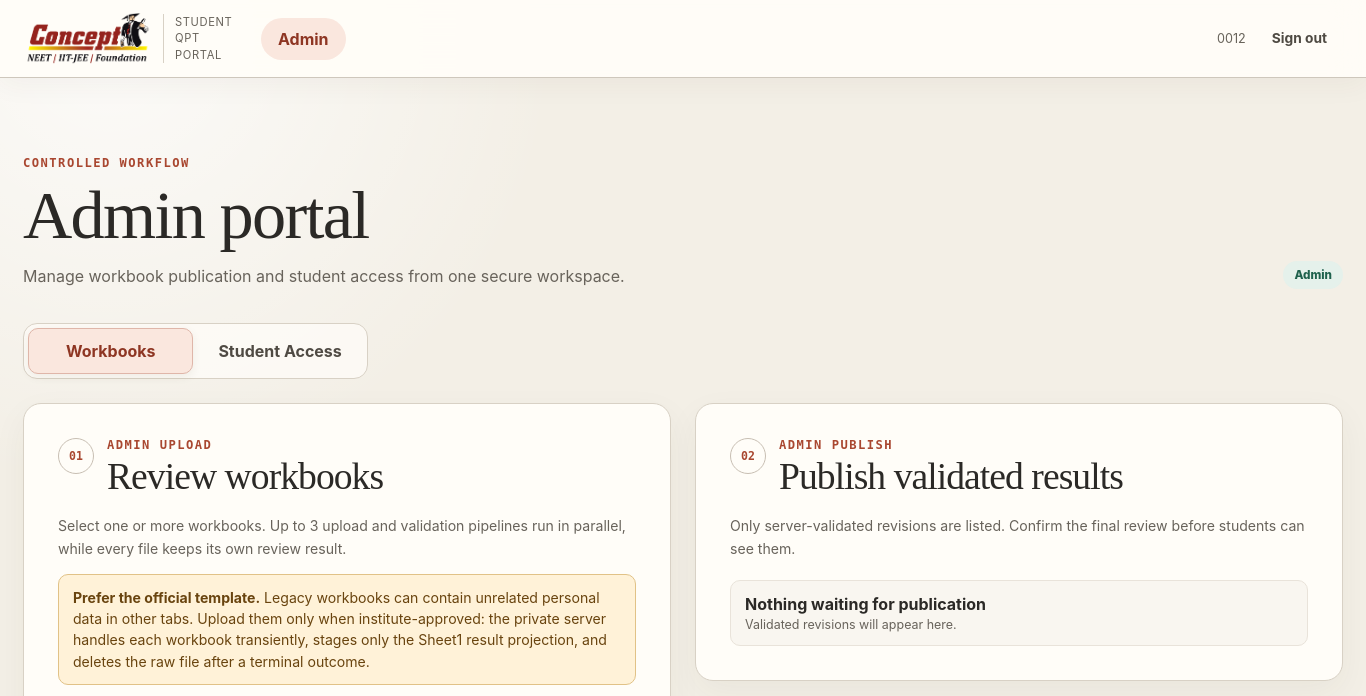
Scenario: student portal › brings a reset credential into view and labels the pending password state clearly
The image size is (1366, 696).
Click the tab "Student Access" at (280, 351), box x1=197 y1=328 x2=363 y2=374
(page scrolled)
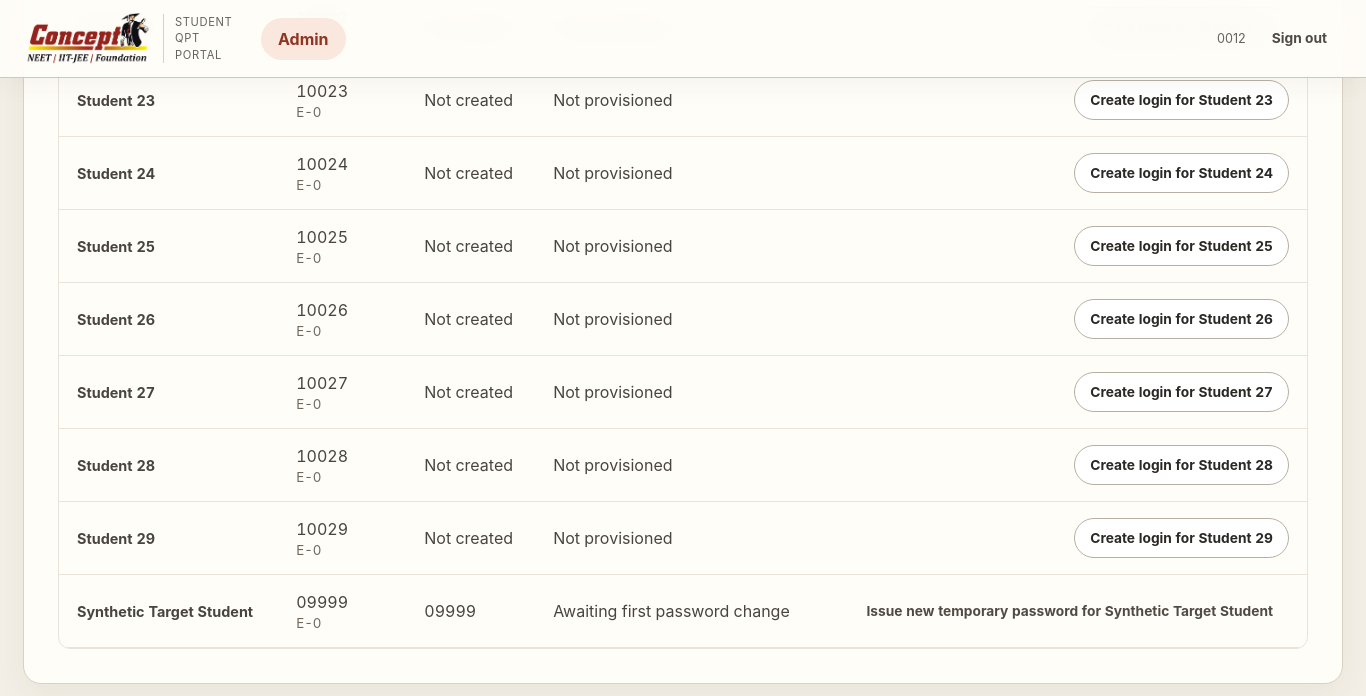
Now the text "Awaiting first password change" is shown, box x1=535 y1=575 x2=817 y2=648
Click the button "Issue new temporary password for Synthetic Target Student" at (1070, 611), box x1=850 y1=591 x2=1289 y2=631
(page scrolled)
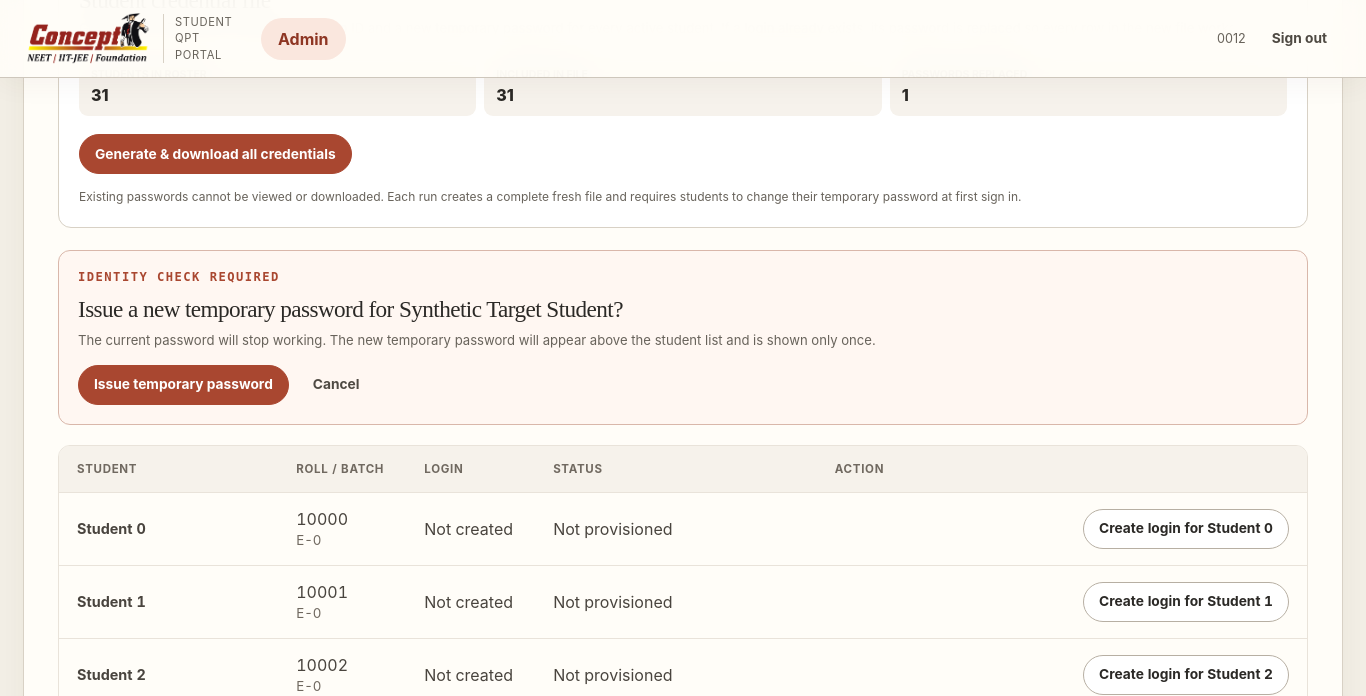
Click the button "Issue temporary password" at (183, 385), box x1=78 y1=365 x2=289 y2=405
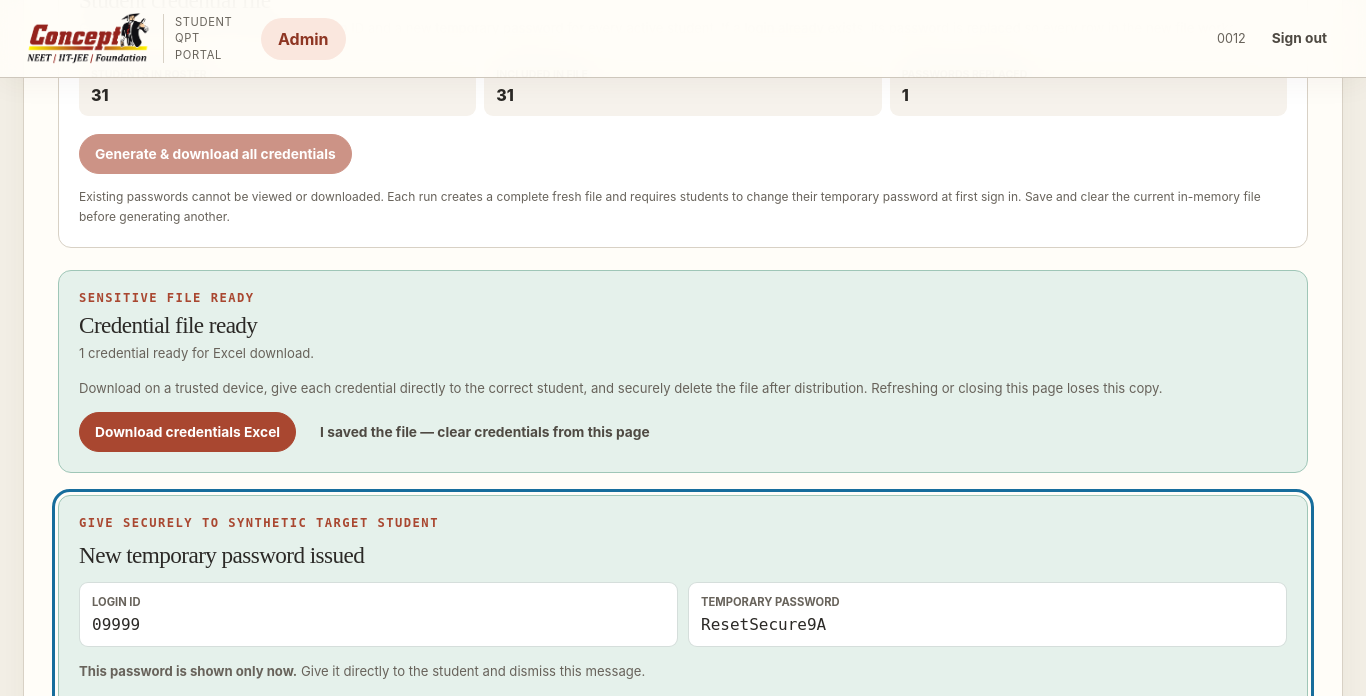
Now the text "ResetSecure9A" is shown, box x1=701 y1=615 x2=826 y2=634
